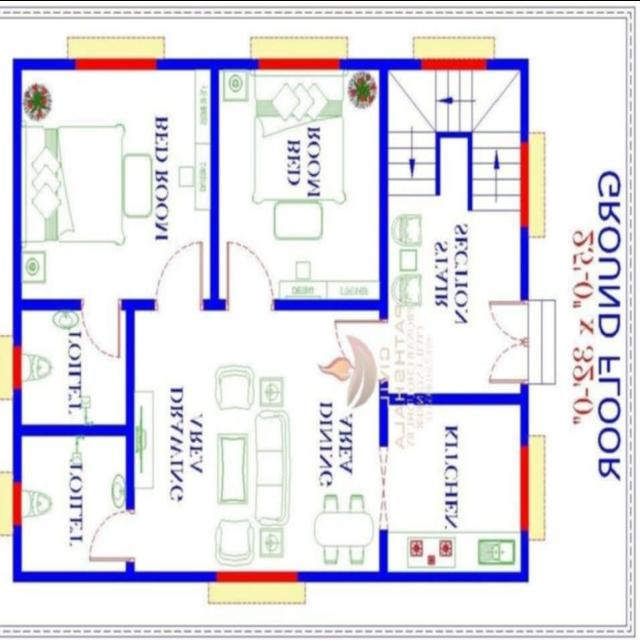column: (512, 53, 534, 81), (8, 291, 30, 315), (370, 294, 392, 318), (7, 51, 27, 77), (376, 52, 396, 78), (514, 566, 534, 591), (7, 565, 26, 587), (206, 565, 222, 590), (205, 52, 223, 74), (205, 292, 222, 314), (373, 567, 390, 587)
